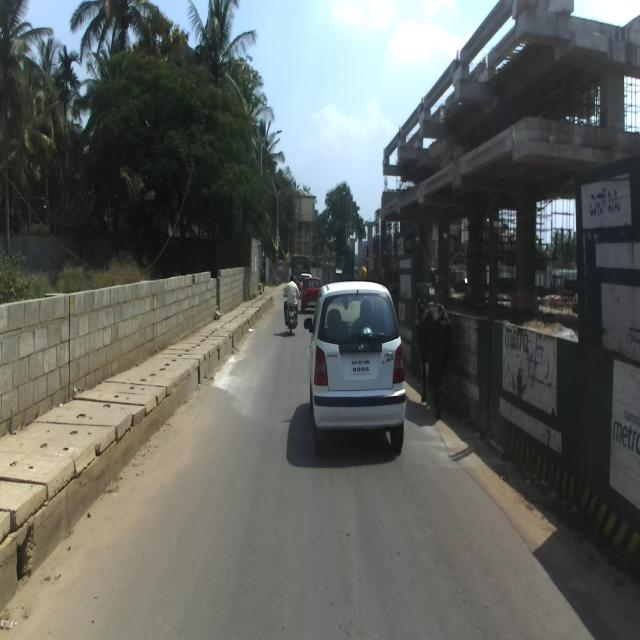Car_Hyundai: (303, 279, 406, 456)
Car_Maruti-Suzuki: (301, 277, 324, 313)
